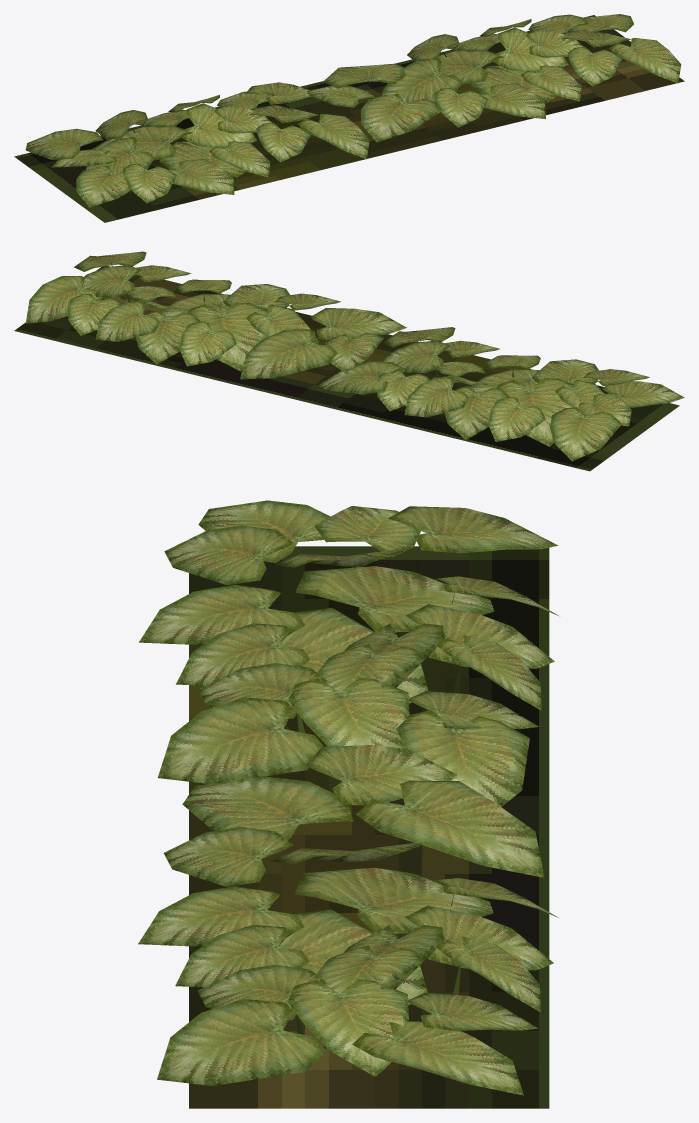
The model's file is Emb_BalconyPlanter_Dirt_01B.FBX.
3 renders of one model, top to bottom at view 1: azimuth 30°, elevation 25°; view 2: azimuth 150°, elevation 25°; view 3: azimuth 270°, elevation 25°, orthographic. The views are drawn at different scales.
Parts seen in each view (by area): view 1: Emb_BalconyPlanter_Dirt_01B; view 2: Emb_BalconyPlanter_Dirt_01B; view 3: Emb_BalconyPlanter_Dirt_01B.
Part boxes in pixels (x1,y1,x2,y2): Emb_BalconyPlanter_Dirt_01B: [14, 14, 684, 222]; Emb_BalconyPlanter_Dirt_01B: [14, 251, 684, 471]; Emb_BalconyPlanter_Dirt_01B: [138, 500, 559, 1108].
Bounding box in the file's own units: 4.92 × 0.453 × 1.53.
